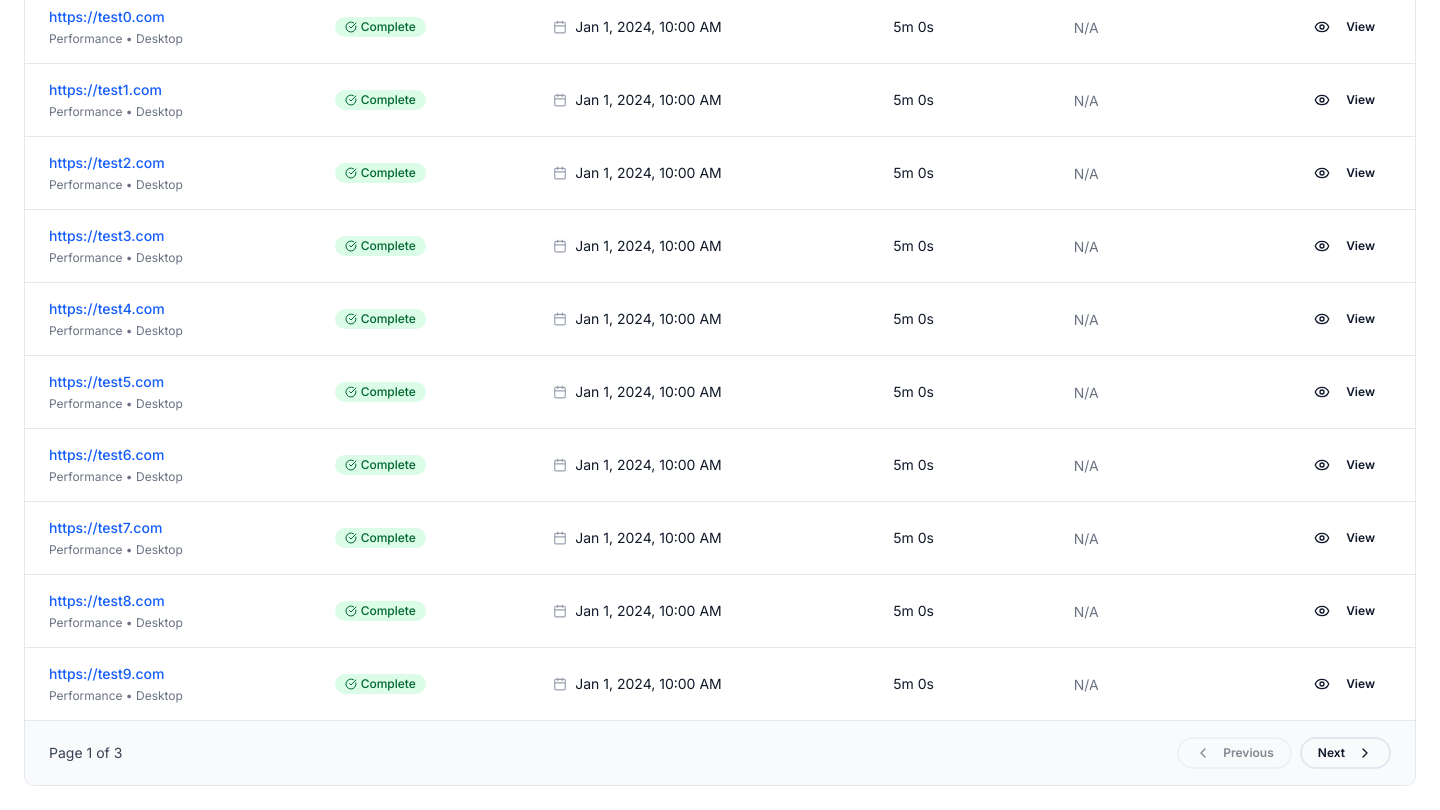
Test: TestHistoryPage › should paginate results
(page scrolled)
Expected: the text "Page 1 of 3" is shown, [49, 743, 122, 763]
Click the button "Next": click(1345, 753) [1300, 737, 1391, 769]
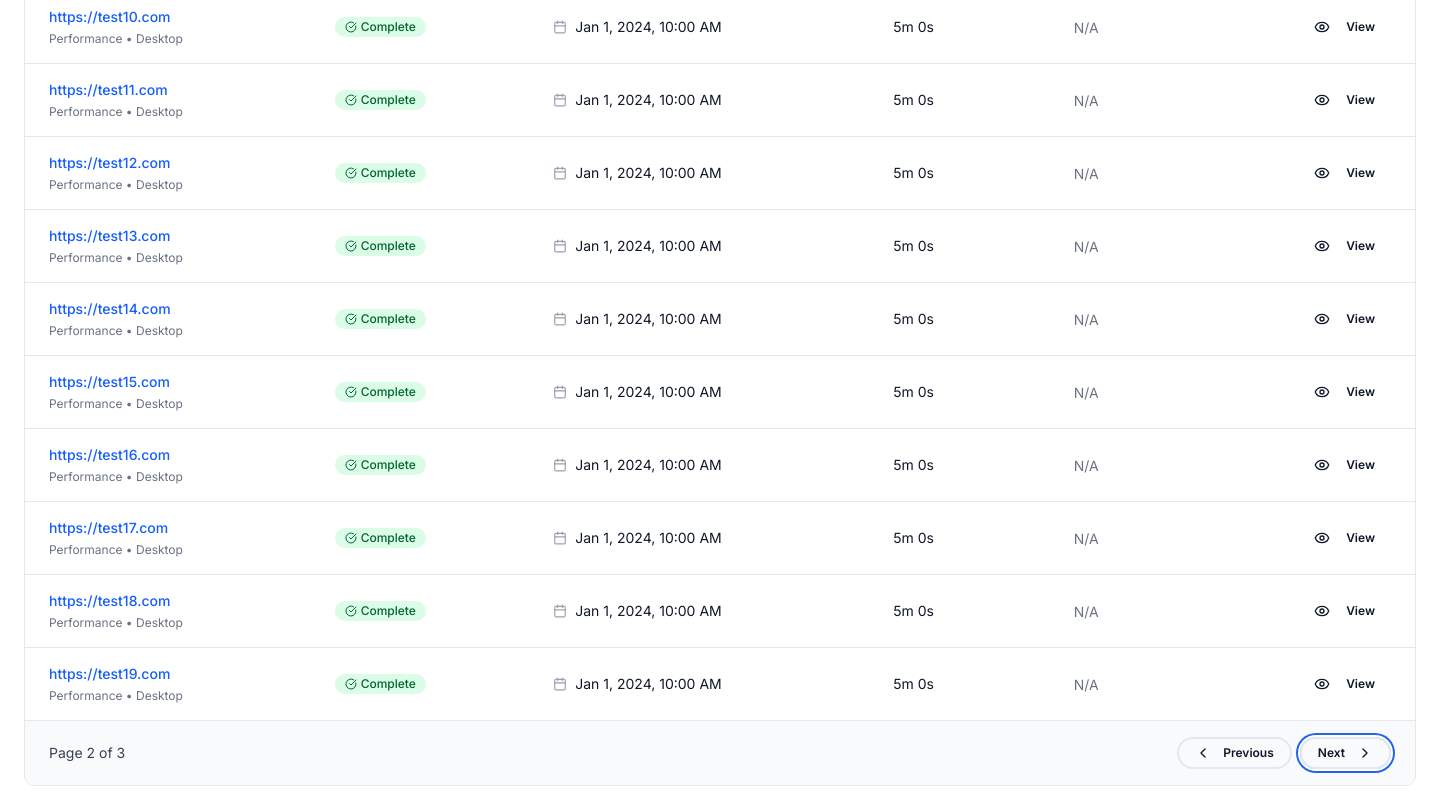
Expected: the text "Page 2 of 3" is shown, [49, 743, 125, 763]
